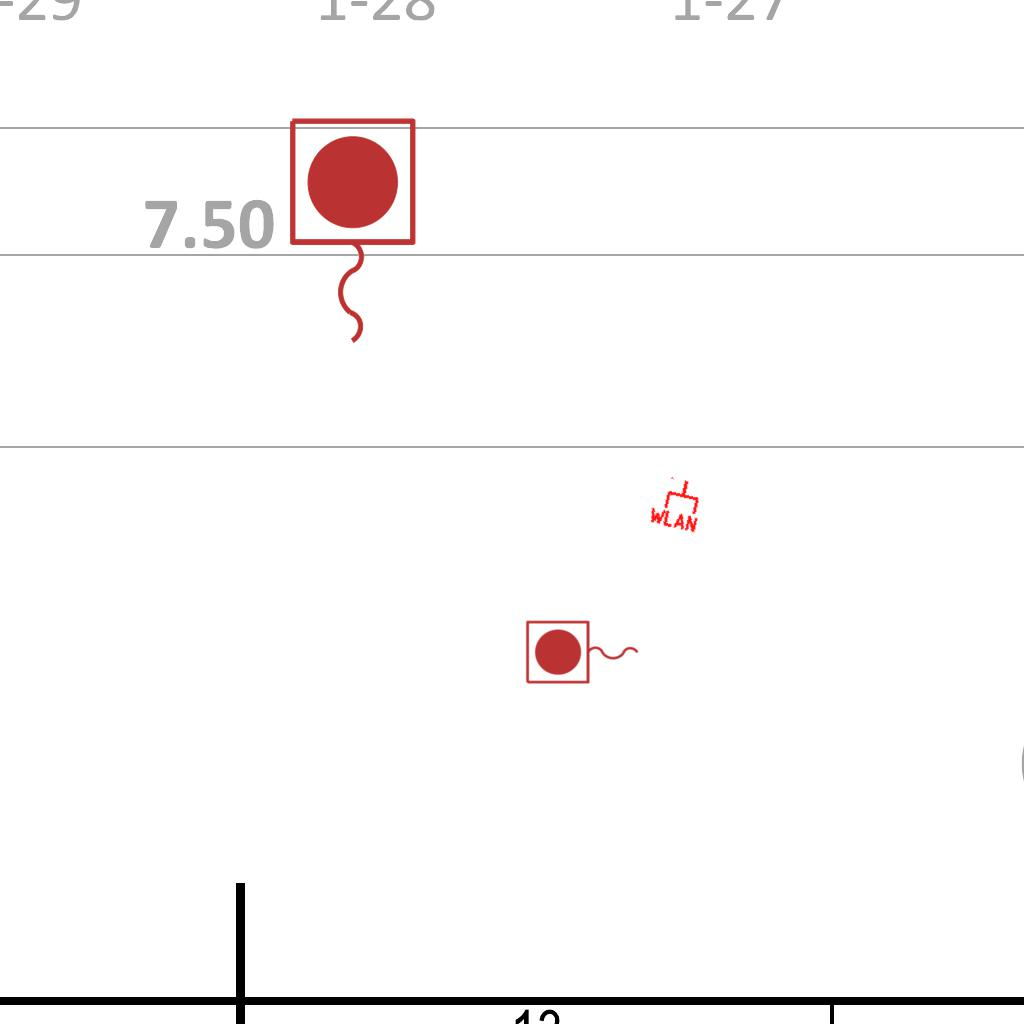WLAN: (645, 471, 709, 535)
Zugtaster: (279, 110, 423, 354), (522, 617, 644, 689)
